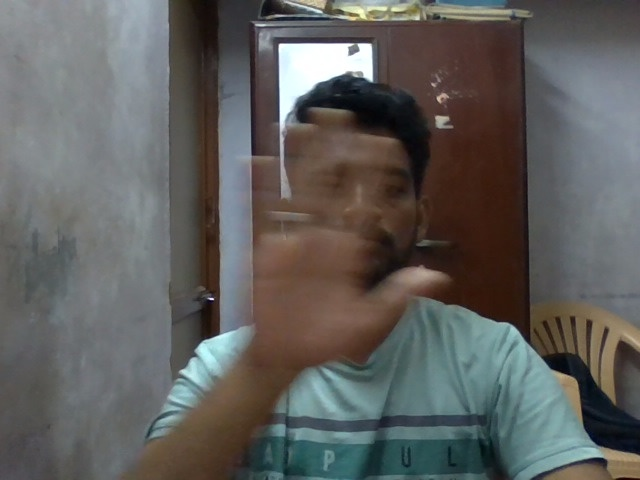Hello: (231, 100, 454, 378)
